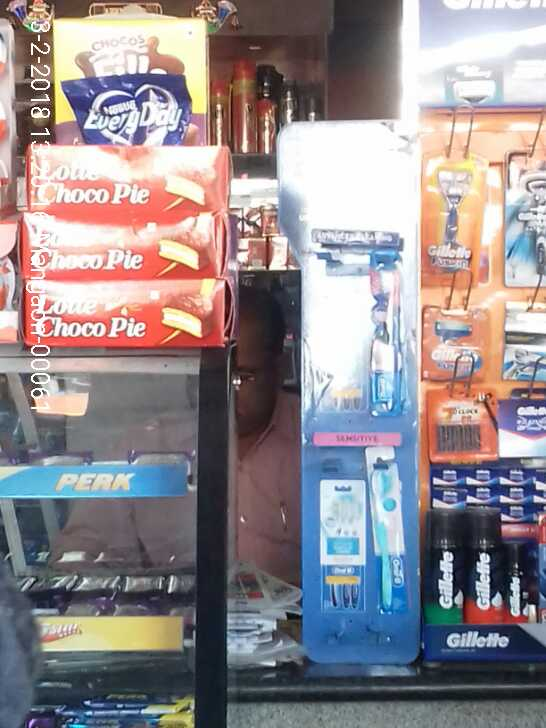beauty: (421, 148, 484, 275), (418, 299, 487, 384), (502, 163, 546, 279), (498, 299, 546, 381)
pharmacy: (367, 263, 413, 423)
